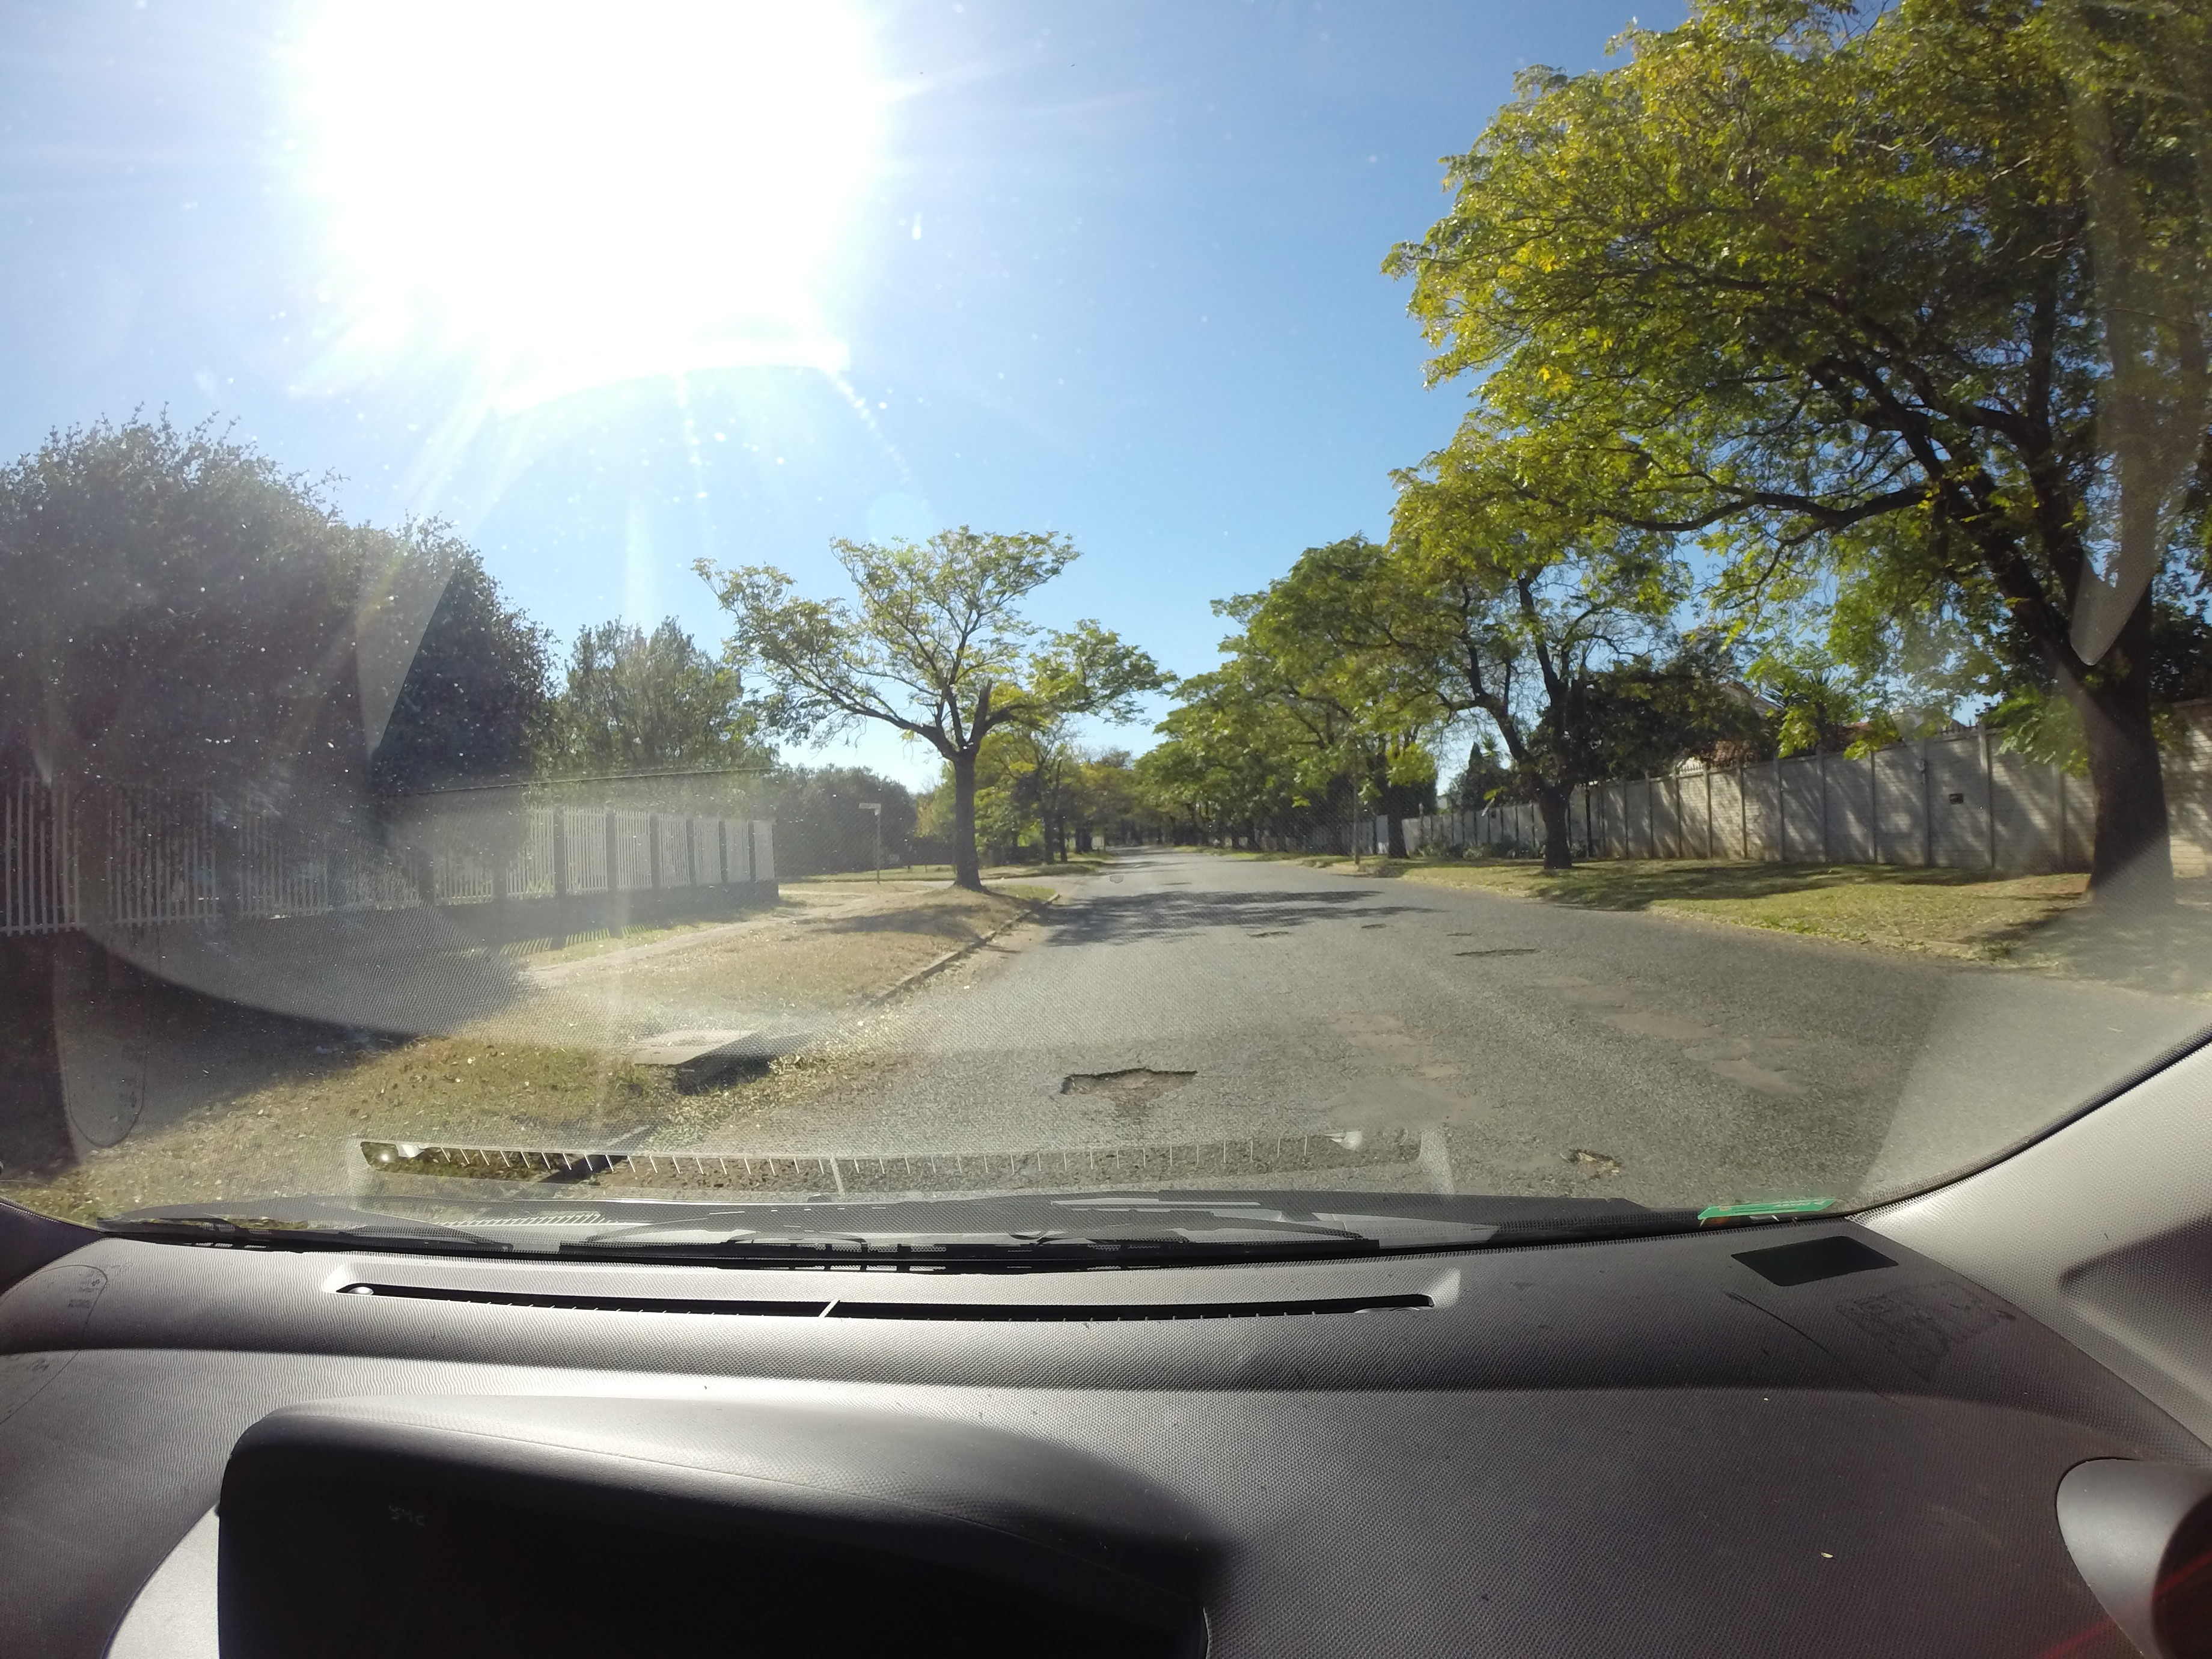pothole: (1035, 1054, 1245, 1122)
